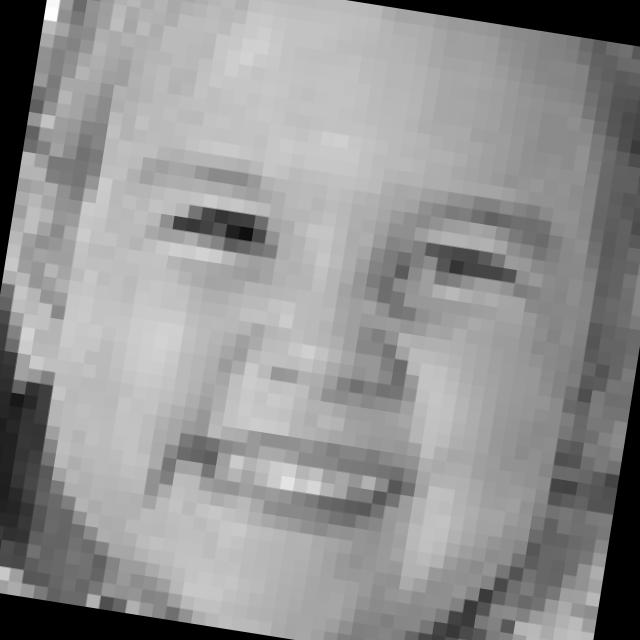happy: (66, 133, 575, 590)
